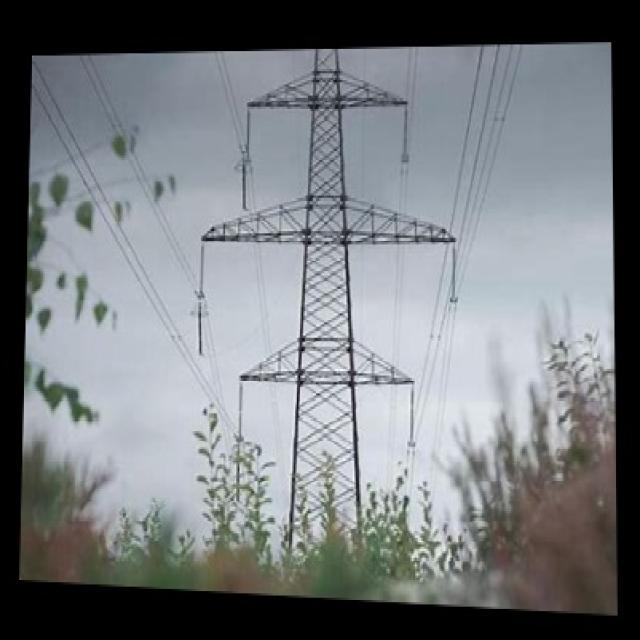utility poles: (203, 352, 475, 595)
